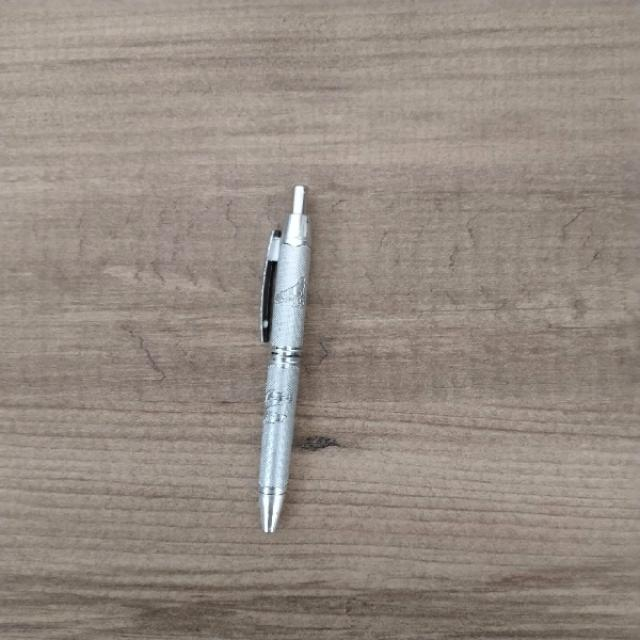signature pen: (260, 186, 310, 532)
